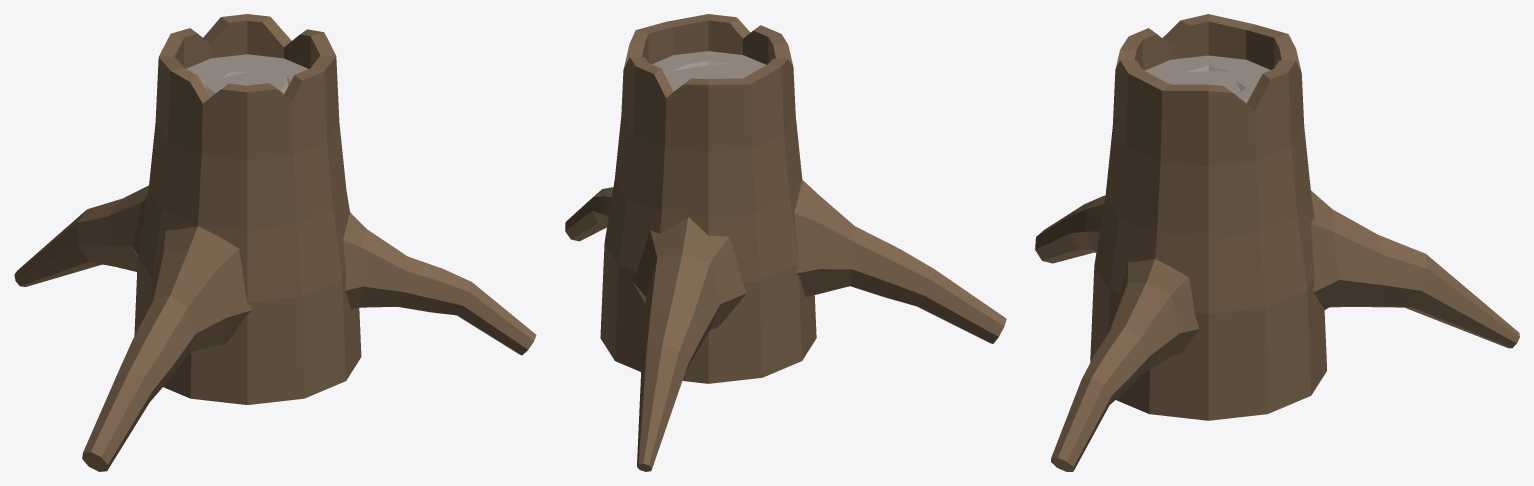
Rendered from NHP_Trunk_A1_02.fbx.
3 renders of one model, left to right at view 1: azimuth 30°, elevation 25°; view 2: azimuth 150°, elevation 25°; view 3: azimuth 270°, elevation 25°, orthographic. The views are drawn at different scales.
Parts seen in each view (by area): view 1: NHP_Trunk_A1_02_LOD0; view 2: NHP_Trunk_A1_02_LOD0; view 3: NHP_Trunk_A1_02_LOD0.
Boxes of the visible parts, x1=… form: NHP_Trunk_A1_02_LOD0: x1=14, y1=14, x2=536, y2=471; NHP_Trunk_A1_02_LOD0: x1=565, y1=14, x2=1006, y2=471; NHP_Trunk_A1_02_LOD0: x1=1035, y1=14, x2=1519, y2=471.
Size of what is drawn, in the model's own units: 1.58 by 1.07 by 1.4.
